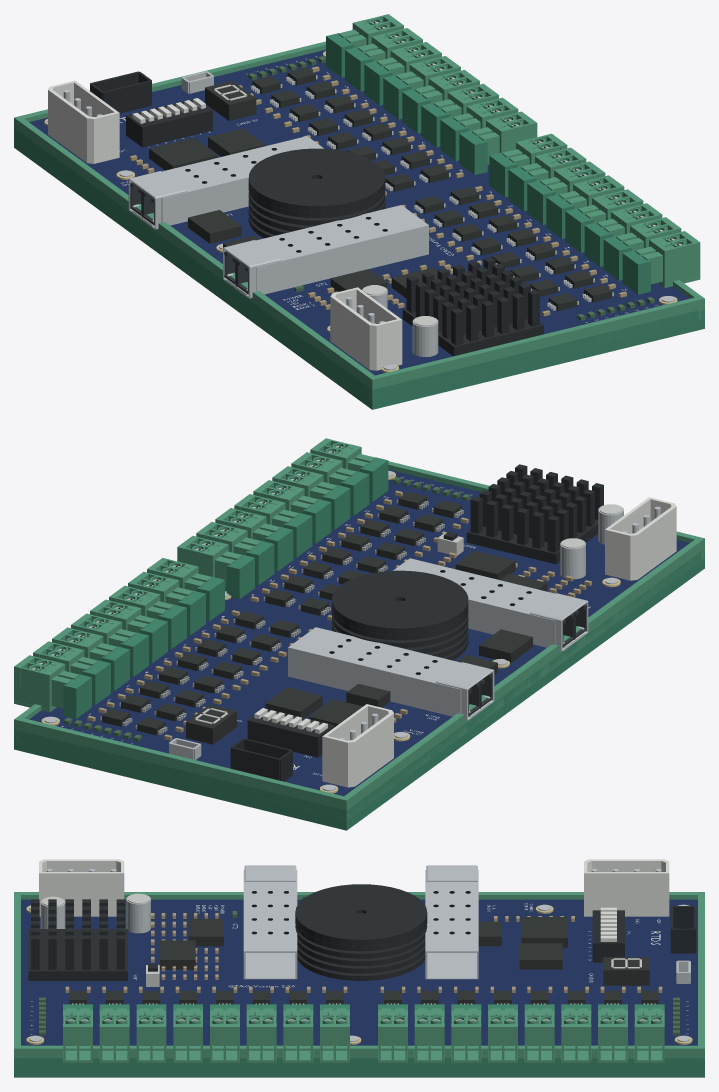
Rendered from gtao-v2-2.20.glb.
The picture shows the model from 3 angles, top to bottom: view 1: azimuth 30°, elevation 25°; view 2: azimuth 150°, elevation 25°; view 3: azimuth 270°, elevation 25°; orthographic projection. The views are drawn at different scales.
Visible parts, largest first — view 1: gtao-v2-2.20.body, gtao-v2-2.20.carrier, gtao-v2-2.20.heatsink_top, gtao-v2-2.20.carrier_lip-0.051, gtao-v2-2.20.optical_cage_2_side-1, gtao-v2-2.20.carrier_end-0.096, gtao-v2-2.20.power2.keyed_shroud, gtao-v2-2.20.power1.keyed_shroud, gtao-v2-2.20.optical_cage_2_z0.01605, gtao-v2-2.20.optical_cage_1_z0.01605, gtao-v2-2.20.optical_cage_1_side-1, gtao-v2-2.20.dip_body (+30 smaller); view 2: gtao-v2-2.20.body, gtao-v2-2.20.carrier, gtao-v2-2.20.carrier_lip-0.051, gtao-v2-2.20.heatsink_top, gtao-v2-2.20.carrier_end0.096, gtao-v2-2.20.optical_cage_1_side1, gtao-v2-2.20.power2.keyed_shroud, gtao-v2-2.20.power1.keyed_shroud, gtao-v2-2.20.optical_cage_1_z0.01605, gtao-v2-2.20.optical_cage_2_z0.01605, gtao-v2-2.20.optical_cage_2_side1, gtao-v2-2.20.dip_body (+31 smaller); view 3: gtao-v2-2.20.body, gtao-v2-2.20.carrier, gtao-v2-2.20.heatsink_top, gtao-v2-2.20.carrier_lip0.051, gtao-v2-2.20.power1.keyed_shroud, gtao-v2-2.20.power2.keyed_shroud, gtao-v2-2.20.optical_cage_2_z0.01605, gtao-v2-2.20.optical_cage_1_z0.01605, gtao-v2-2.20.lower_heatsink_base, gtao-v2-2.20.carrier_lip-0.051, gtao-v2-2.20.optical_cage_2_z0.00755, gtao-v2-2.20.optical_cage_1_z0.00755 (+50 smaller).
Boxes of the visible parts, x1=… form: gtao-v2-2.20.body: x1=29, y1=49, x2=689, y2=375; gtao-v2-2.20.carrier: x1=14, y1=128, x2=704, y2=409; gtao-v2-2.20.heatsink_top: x1=248, y1=148, x2=385, y2=212; gtao-v2-2.20.carrier_lip-0.051: x1=17, y1=118, x2=378, y2=397; gtao-v2-2.20.optical_cage_2_side-1: x1=256, y1=224, x2=428, y2=293; gtao-v2-2.20.carrier_end-0.096: x1=368, y1=297, x2=704, y2=399; gtao-v2-2.20.power2.keyed_shroud: x1=330, y1=287, x2=402, y2=370; gtao-v2-2.20.power1.keyed_shroud: x1=48, y1=80, x2=119, y2=163; gtao-v2-2.20.optical_cage_2_z0.01605: x1=256, y1=205, x2=428, y2=268; gtao-v2-2.20.optical_cage_1_z0.01605: x1=161, y1=136, x2=323, y2=199; gtao-v2-2.20.optical_cage_1_side-1: x1=161, y1=176, x2=248, y2=225; gtao-v2-2.20.dip_body: x1=126, y1=99, x2=212, y2=147; gtao-v2-2.20.body: x1=29, y1=469, x2=689, y2=796; gtao-v2-2.20.carrier: x1=14, y1=549, x2=704, y2=830; gtao-v2-2.20.carrier_lip-0.051: x1=340, y1=537, x2=703, y2=819; gtao-v2-2.20.heatsink_top: x1=332, y1=570, x2=468, y2=634; gtao-v2-2.20.carrier_end0.096: x1=14, y1=717, x2=350, y2=819; gtao-v2-2.20.optical_cage_1_side1: x1=288, y1=647, x2=461, y2=716; gtao-v2-2.20.power2.keyed_shroud: x1=605, y1=497, x2=676, y2=580; gtao-v2-2.20.power1.keyed_shroud: x1=322, y1=704, x2=393, y2=787; gtao-v2-2.20.optical_cage_1_z0.01605: x1=288, y1=627, x2=461, y2=690; gtao-v2-2.20.optical_cage_2_z0.01605: x1=393, y1=559, x2=554, y2=619; gtao-v2-2.20.optical_cage_2_side1: x1=468, y1=598, x2=555, y2=647; gtao-v2-2.20.dip_body: x1=247, y1=709, x2=334, y2=757; gtao-v2-2.20.body: x1=21, y1=899, x2=697, y2=1045; gtao-v2-2.20.carrier: x1=14, y1=1058, x2=704, y2=1077; gtao-v2-2.20.heatsink_top: x1=295, y1=884, x2=427, y2=946; gtao-v2-2.20.carrier_lip0.051: x1=14, y1=1045, x2=704, y2=1058; gtao-v2-2.20.power1.keyed_shroud: x1=584, y1=859, x2=669, y2=916; gtao-v2-2.20.power2.keyed_shroud: x1=39, y1=859, x2=124, y2=916; gtao-v2-2.20.optical_cage_2_z0.01605: x1=243, y1=870, x2=297, y2=952; gtao-v2-2.20.optical_cage_1_z0.01605: x1=425, y1=870, x2=478, y2=952; gtao-v2-2.20.lower_heatsink_base: x1=28, y1=929, x2=127, y2=980; gtao-v2-2.20.carrier_lip-0.051: x1=15, y1=892, x2=704, y2=899; gtao-v2-2.20.optical_cage_2_z0.00755: x1=244, y1=953, x2=296, y2=979; gtao-v2-2.20.optical_cage_1_z0.00755: x1=425, y1=953, x2=478, y2=979.
Bounding box in the file's own units: 0.1116 × 0.021 × 0.194.
